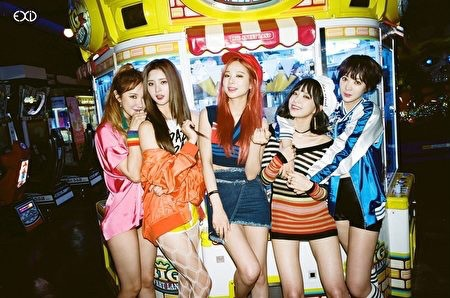people: (145, 63, 214, 298), (211, 49, 273, 298), (280, 77, 342, 295), (333, 54, 384, 298), (102, 65, 155, 298)
